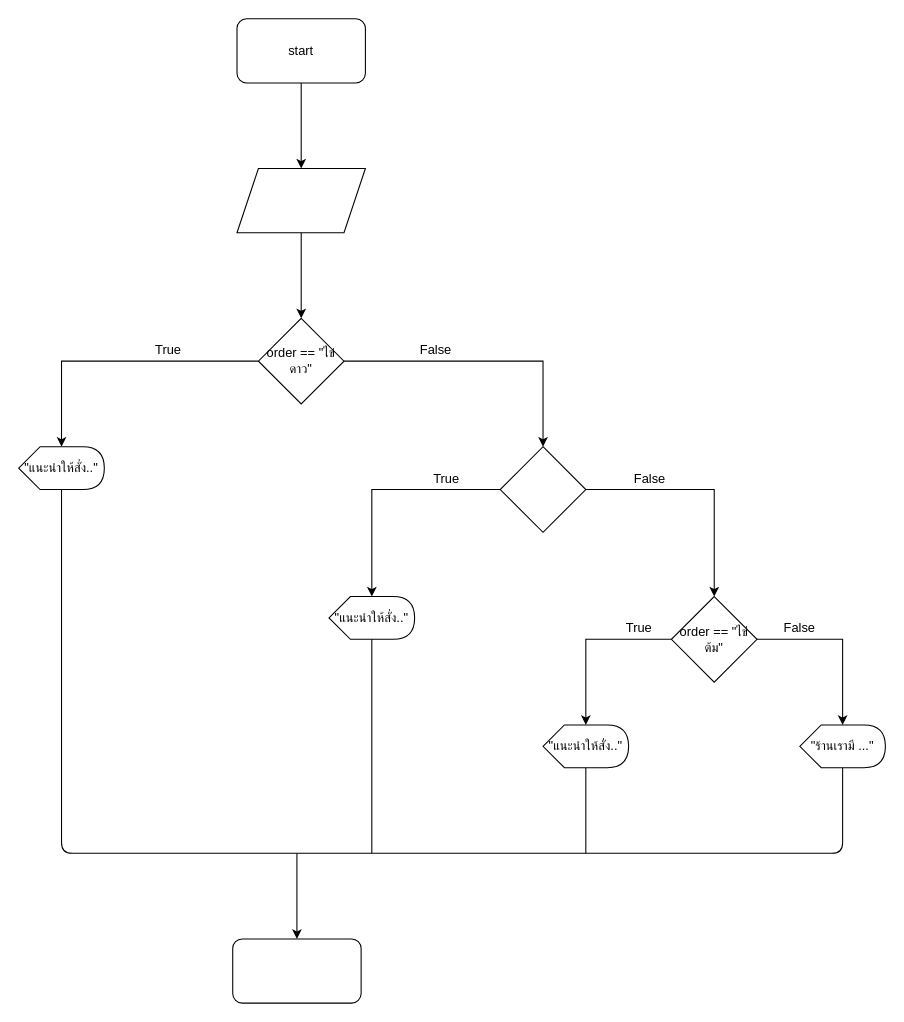
The diagram is 904 pixels wide and 1022 high, and some of its shapes have lost their labels. Each missing label, with the centre of its shape:
End: the point at 296,970
order: the point at 300,200
order == "ไข่เจียว": the point at 542,489
